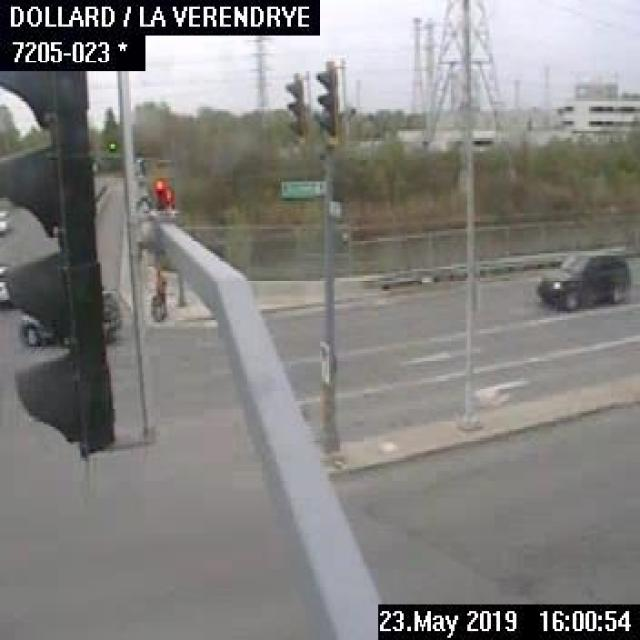pedestrian: (147, 269, 164, 318)
vehicle: (13, 288, 132, 346), (534, 245, 632, 311), (0, 204, 13, 233), (0, 262, 7, 304)
